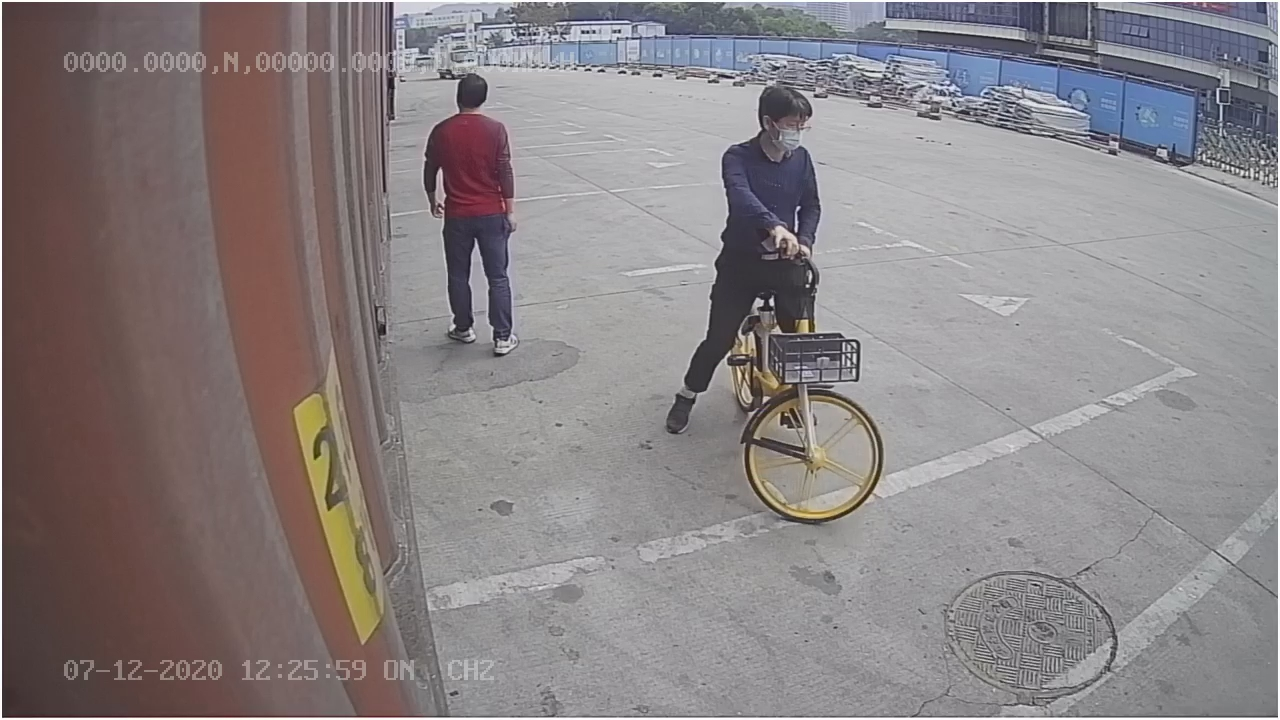person: (420, 71, 522, 358)
